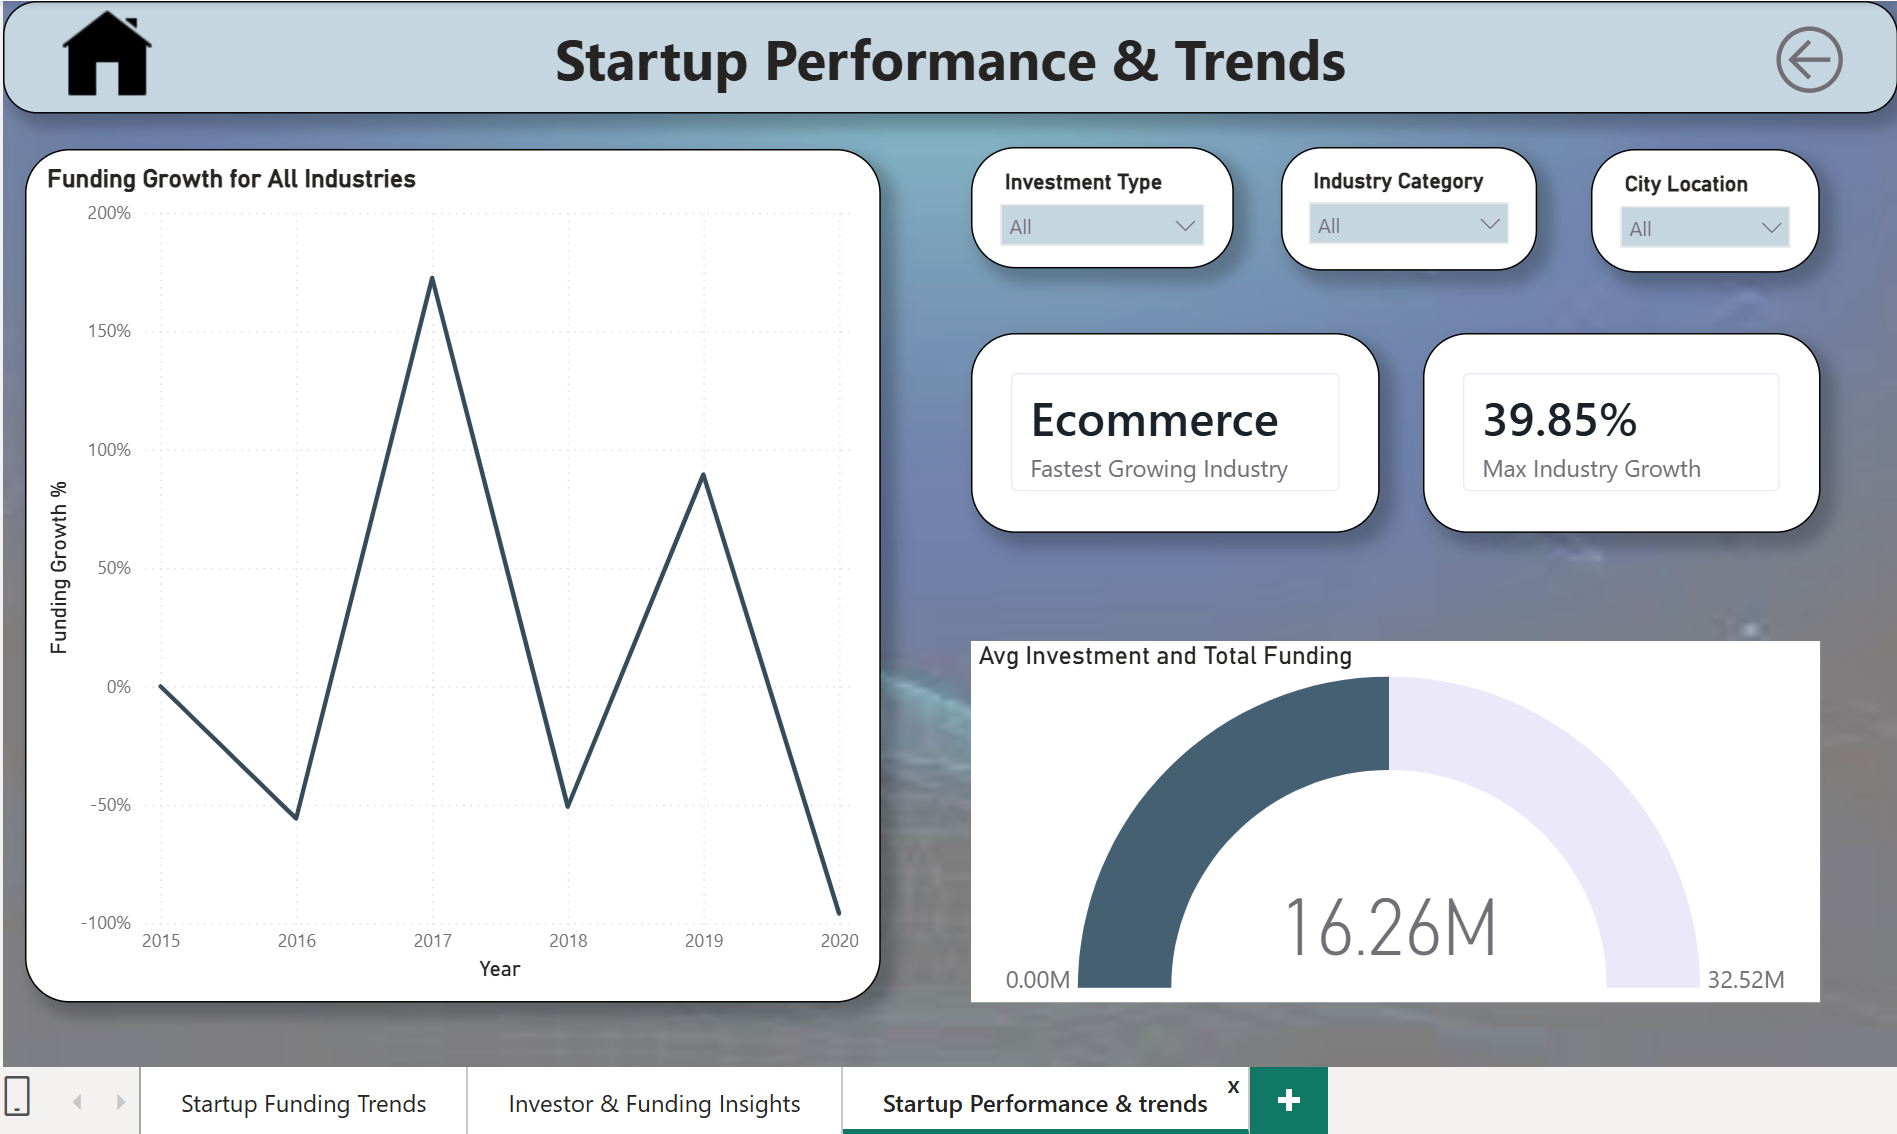

This screenshot's page, from the dashboard's own definition file:
{"tool":"powerbi","page":{"name":"Startup Performance & trends","canvas":[1280,720],"ordinal":2},"visuals":[{"type":"textbox","box":[0,0,1280,75.8],"z":0},{"type":"lineChart","fields":{"Category":["Final Cleaned(in).Date.Variation.Date Hierarchy.Year"],"Y":["Final Cleaned(in).Funding Growth %"]},"box":[15.2,100.1,577.8,576.3],"z":1000},{"type":"slicer","fields":{"Values":["Final Cleaned(in).City  Location"]},"box":[1072.2,100.1,154.7,83.4],"z":2000},{"type":"slicer","fields":{"Values":["Final Cleaned(in).Industry Category"]},"box":[862.9,98.6,172.9,83.4],"z":3000},{"type":"slicer","fields":{"Values":["Final Cleaned(in).Investment Type"]},"box":[653.6,98.6,177.4,81.9],"z":4000},{"type":"image","box":[25.8,6.1,89.5,62.2],"z":5000},{"type":"actionButton","box":[1116.7,9.4,69.4,56.3],"z":6000},{"type":"cardVisual","fields":{"Data":["Final Cleaned(in).Max Industry Growth"]},"box":[958.5,224.5,268.4,135],"z":7000},{"type":"cardVisual","fields":{"Data":["Final Cleaned(in).Fastest Growing Industry"]},"box":[653.6,224.5,276,135],"z":8000},{"type":"gauge","fields":{"Y":["Final Cleaned(in).Avg Investment"],"TargetValue":["Final Cleaned(in).Total Funding"]},"box":[653.6,432.2,573.3,244.2],"z":9000},{"type":"image","box":[1028.5,0,63.8,86.3],"z":11000},{"type":"actionButton","box":[1186.2,13.1,58.2,52.6],"z":12000}]}

Visuals, with their boxes on the page's 1280x720 design canvas (x1, y1, x2, y2). These are canvas units, not pixel positions in the 1897x1134 screenshot, which may show the page scaled, cropped or inside an application window:
textbox: <box>0,0,1280,76</box>
lineChart - Final Cleaned(in).Date.Variation.Date Hierarchy.Year x Final Cleaned(in).Funding Growth %: <box>15,100,593,676</box>
slicer - Final Cleaned(in).City  Location: <box>1072,100,1227,184</box>
slicer - Final Cleaned(in).Industry Category: <box>863,99,1036,182</box>
slicer - Final Cleaned(in).Investment Type: <box>654,99,831,180</box>
image: <box>26,6,115,68</box>
actionButton: <box>1117,9,1186,66</box>
cardVisual - Final Cleaned(in).Max Industry Growth: <box>958,224,1227,360</box>
cardVisual - Final Cleaned(in).Fastest Growing Industry: <box>654,224,930,360</box>
gauge - Final Cleaned(in).Avg Investment x Final Cleaned(in).Total Funding: <box>654,432,1227,676</box>
image: <box>1028,0,1092,86</box>
actionButton: <box>1186,13,1244,66</box>
